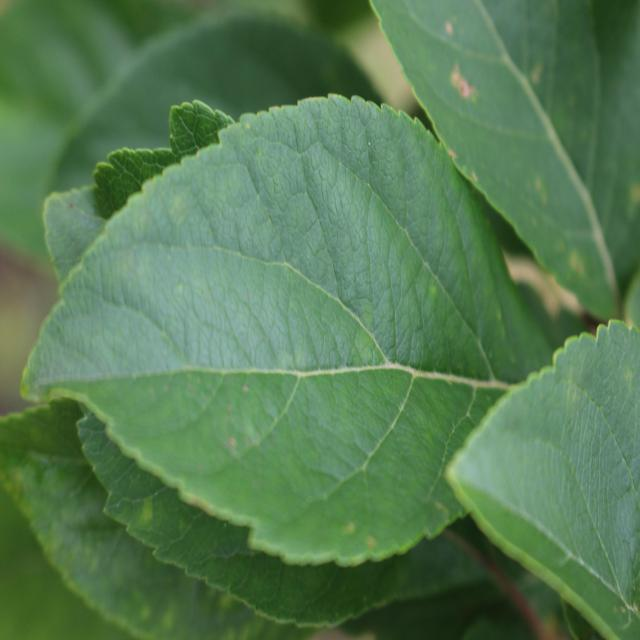Rust: (436, 55, 485, 111)
